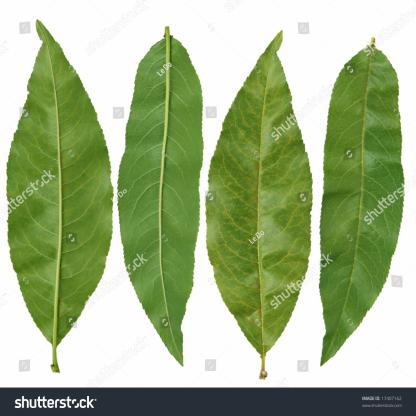peach leaf: (205, 28, 314, 378), (4, 19, 115, 359), (111, 16, 202, 375), (319, 34, 407, 366)
